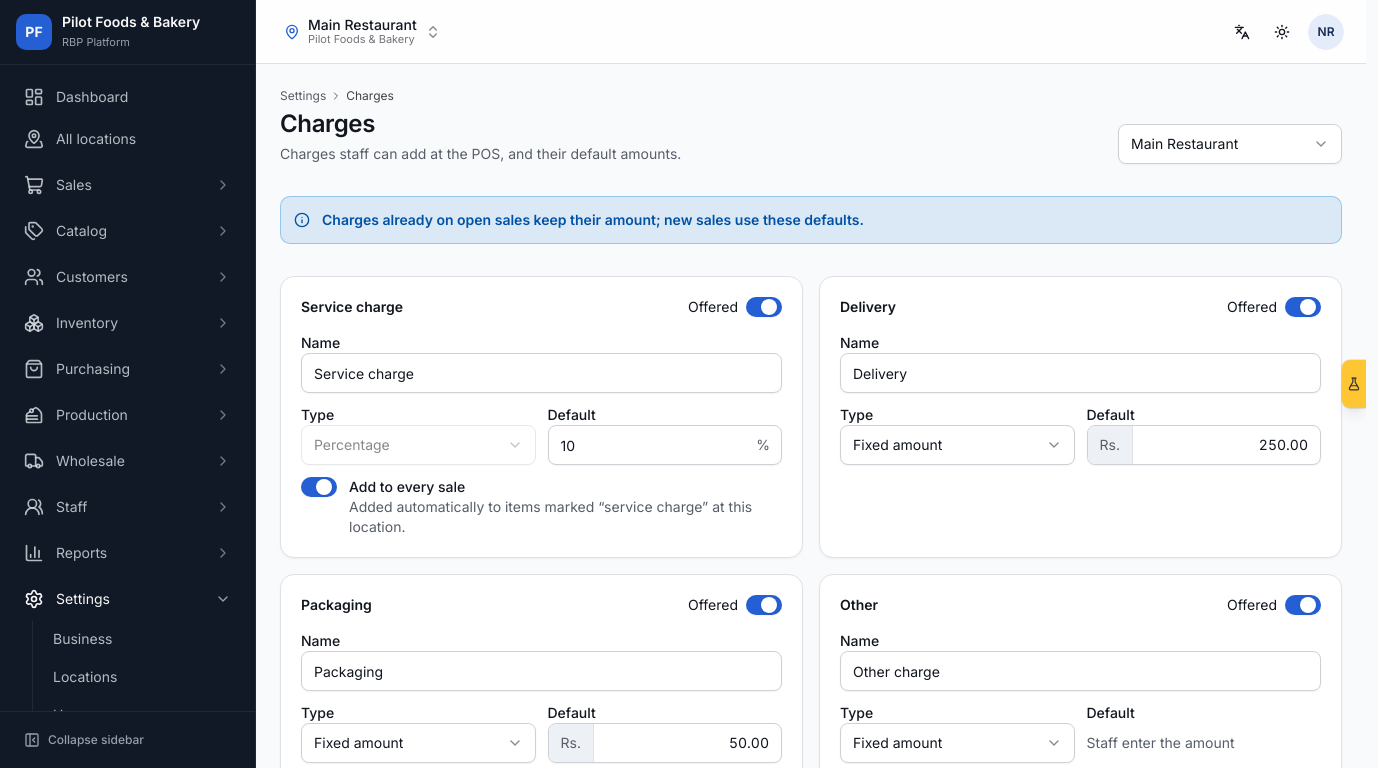
SET-007 charges › changes the service charge rate the POS uses
Replace the text in the 1st field labelled "Default" with "12.5" at (665, 445), box 548,425 -> 782,465
(page scrolled)
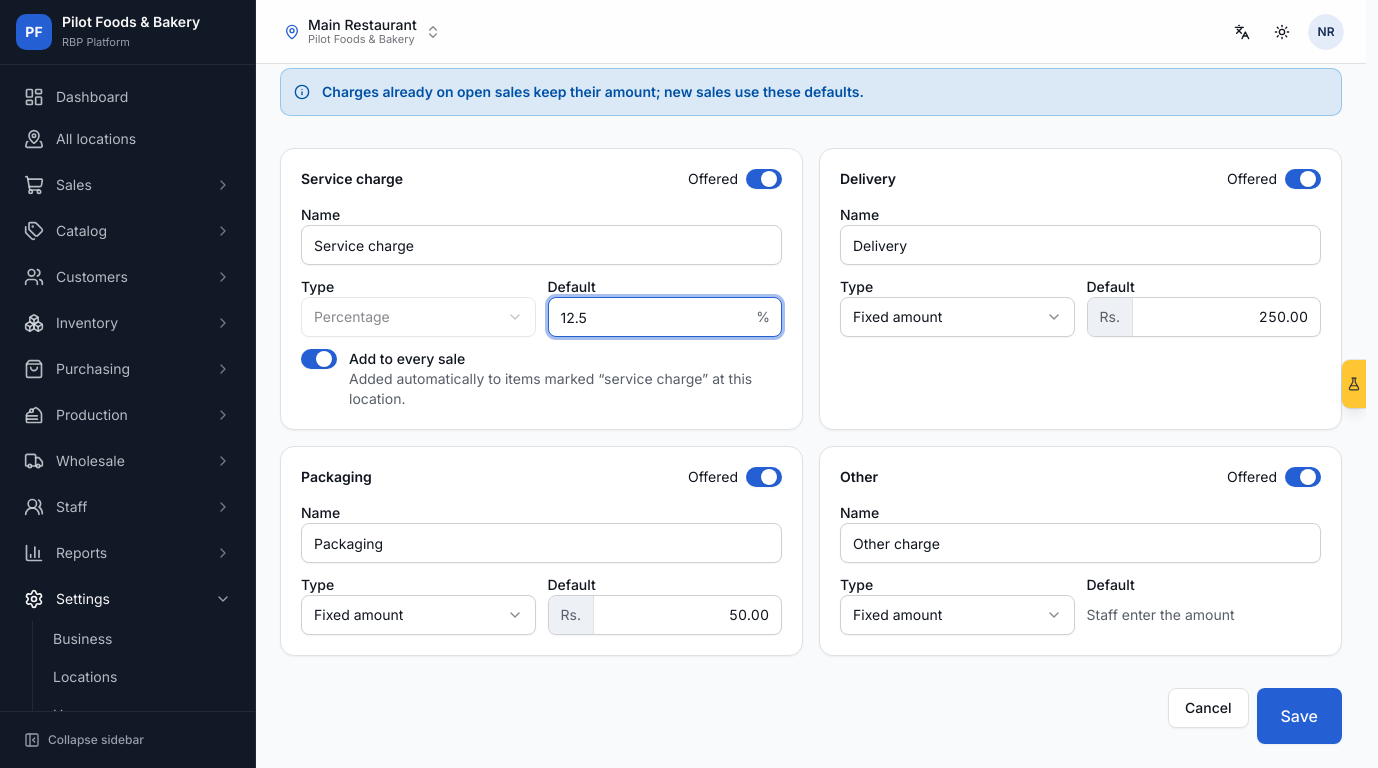
Click the button "Save".
click(1299, 716)  # box 1256,688 -> 1342,744
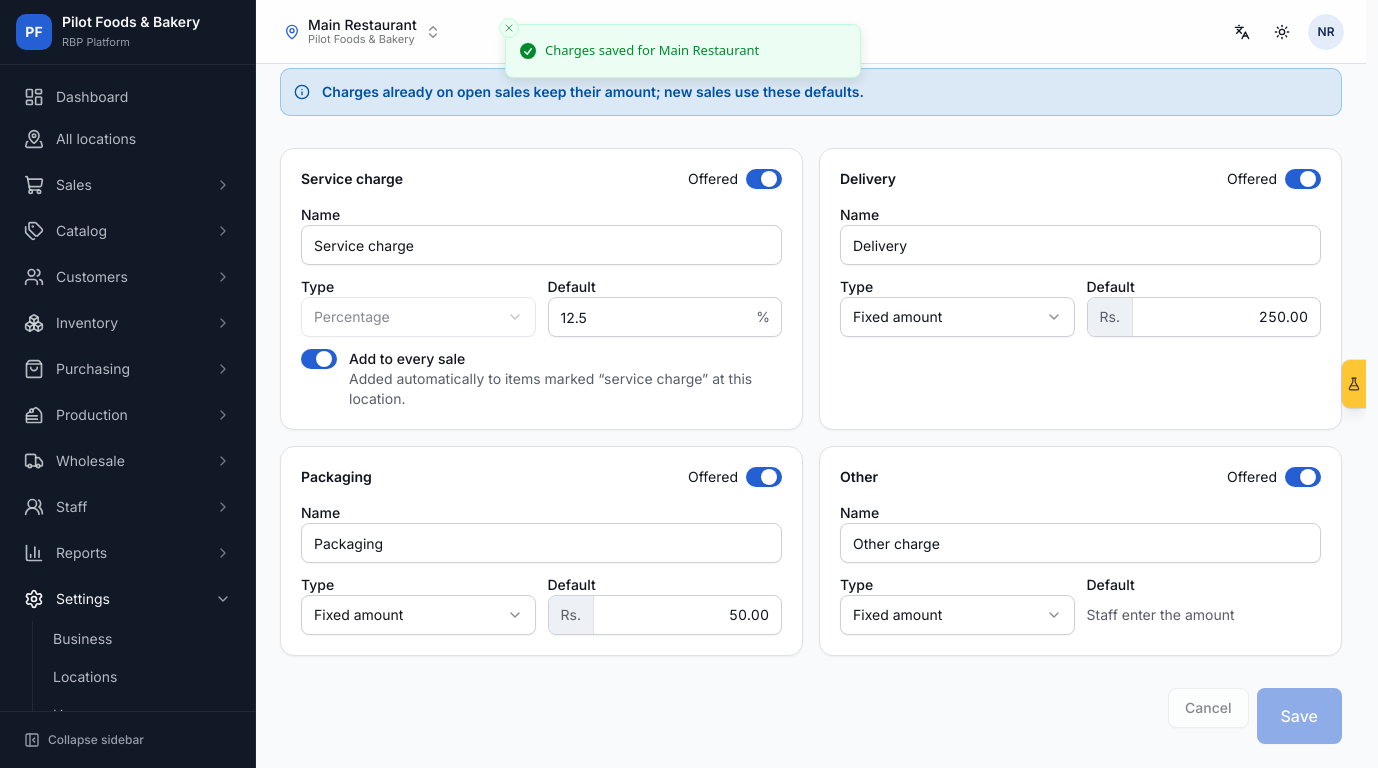
Result: the text "Charges saved for Main Restaurant" is shown at 545,41 -> 759,60
